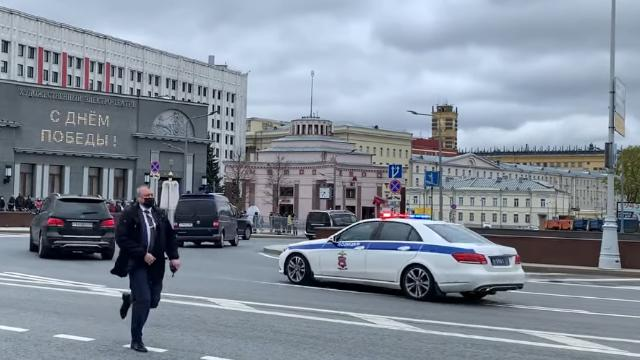non emergency car: (29, 193, 119, 264), (170, 192, 242, 251), (306, 210, 360, 242)
police car: (278, 213, 528, 305)
